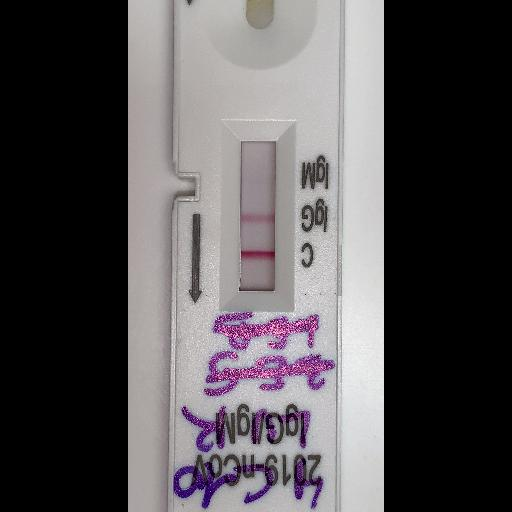Pos: (164, 2, 340, 512)
